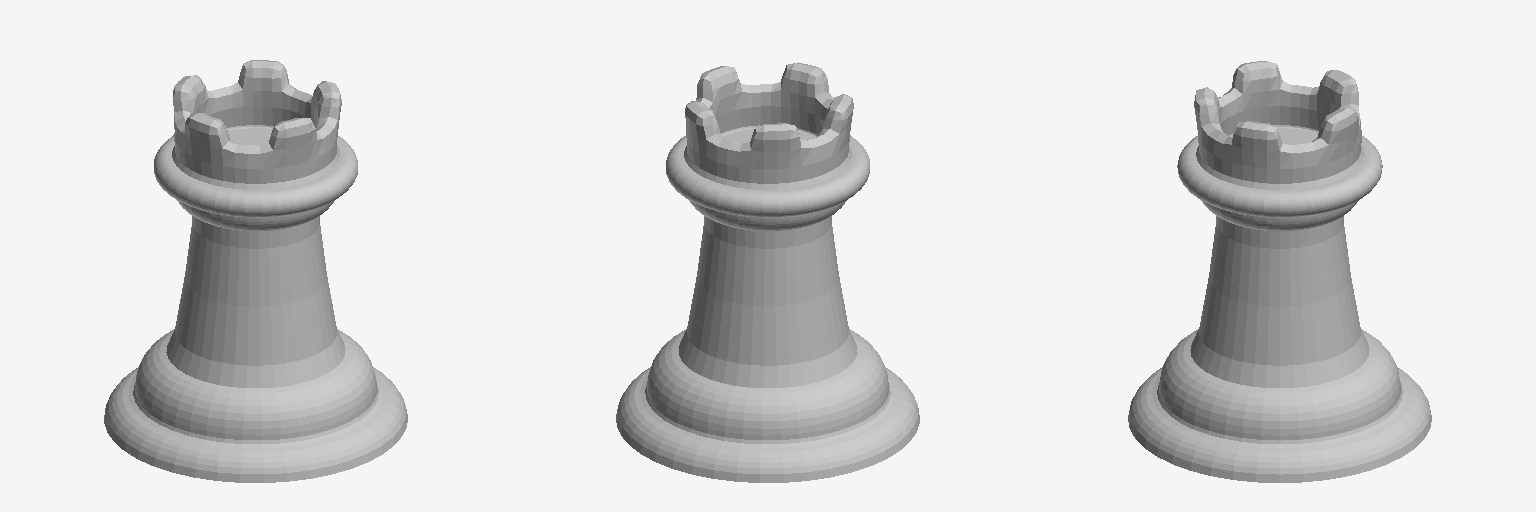
The model's file is blackwall.obj.
3 renders of one model, left to right at view 1: azimuth 30°, elevation 25°; view 2: azimuth 150°, elevation 25°; view 3: azimuth 270°, elevation 25°, orthographic.
Visible parts, largest first — view 1: black_rook1_Mesh.031; view 2: black_rook1_Mesh.031; view 3: black_rook1_Mesh.031.
Boxes of the visible parts, box(x1,y1,x2,y2) form: black_rook1_Mesh.031: box(104, 60, 407, 482); black_rook1_Mesh.031: box(616, 62, 919, 482); black_rook1_Mesh.031: box(1128, 61, 1431, 482).
Bounding box in the file's own units: 0.1645 × 0.1944 × 0.1645.